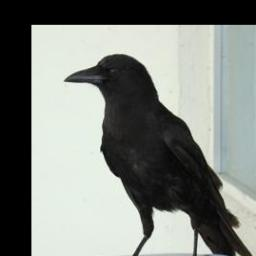Crow: (61, 53, 253, 256)
